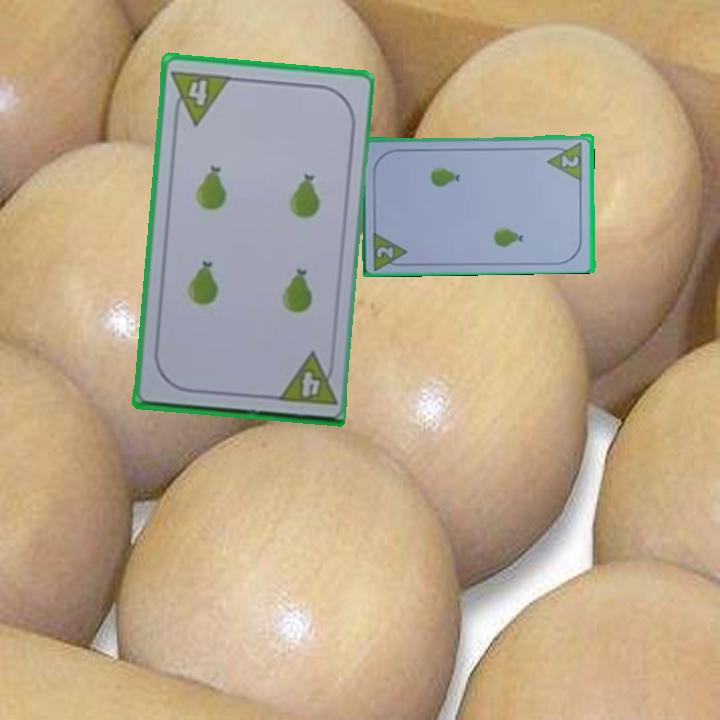2p: (544, 138, 586, 182), (370, 227, 412, 271)
4p: (168, 67, 233, 128), (272, 349, 338, 408)
